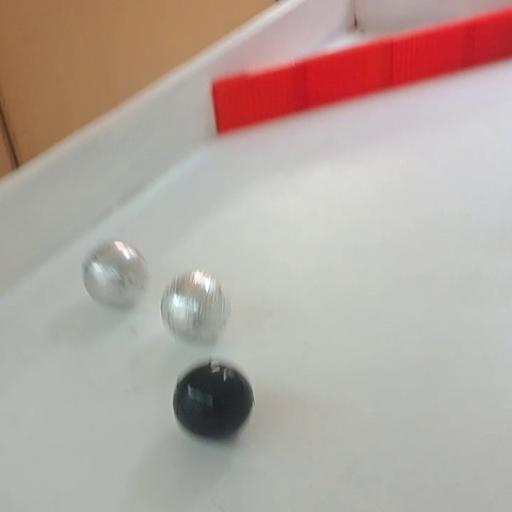alive: (160, 270, 232, 346), (81, 238, 151, 310)
dead: (170, 357, 256, 442)
